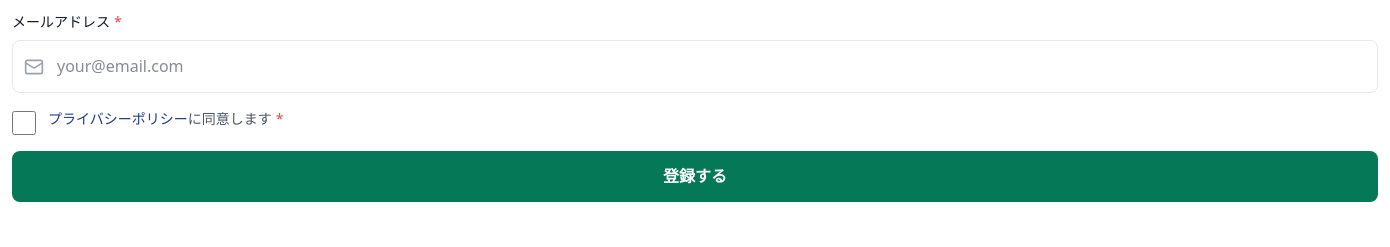
Scenario: NewsletterSignupForm › should show validation error when consent is not checked
Type "test@example.com" into the field labelled "メールアドレス*" at (695, 67), box [12,40,1378,93]
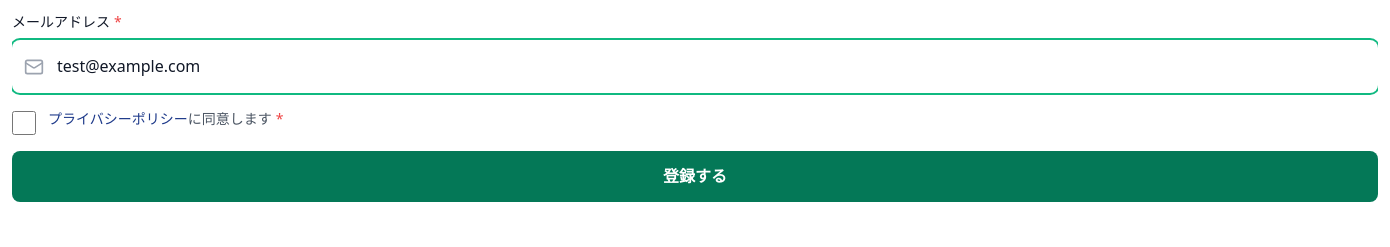
Click the button "登録する" at (695, 177), box [12,151,1378,202]
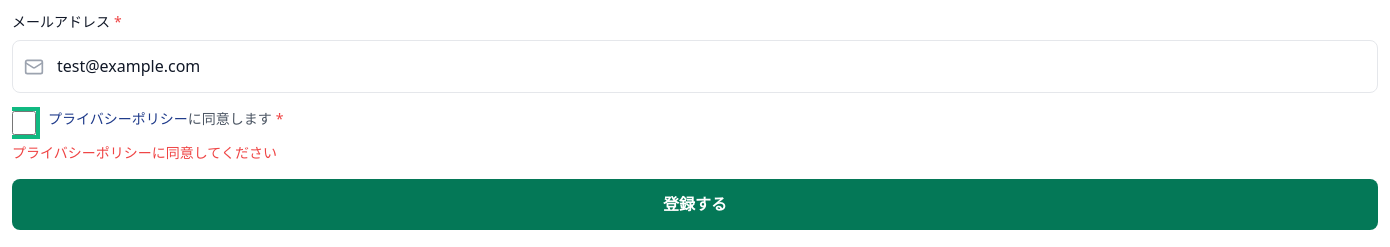
Check: the message reads "プライバシーポリシーに同意してください", box [12,143,277,162]
